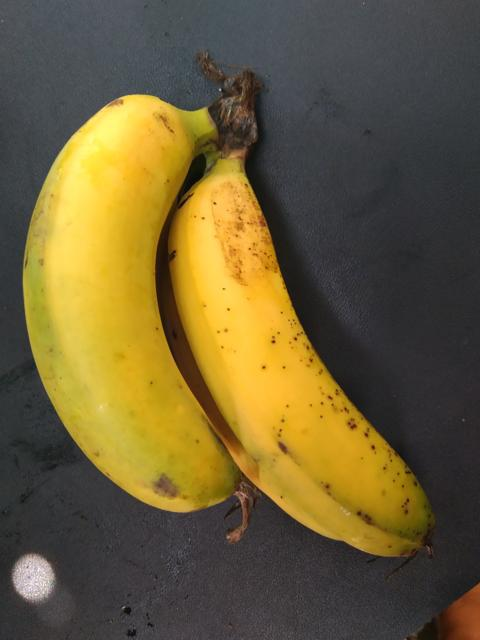freshripe: (12, 78, 210, 528)
ripe: (162, 163, 444, 608)
